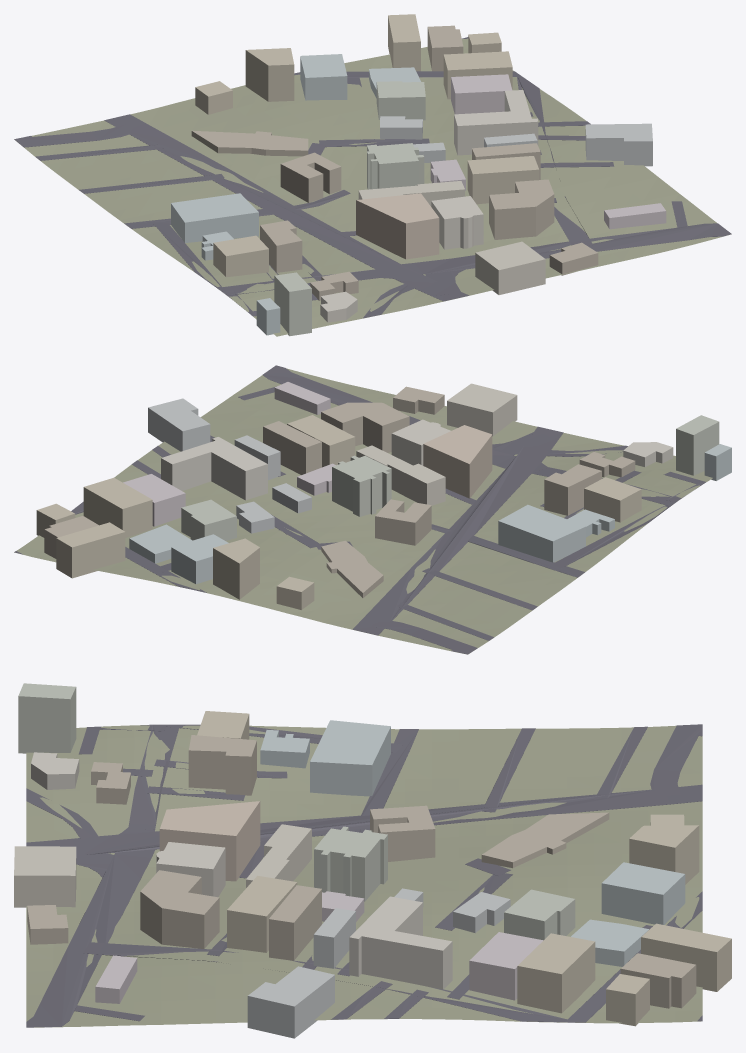
File: chunk_2_4.glb
The picture shows the model from 3 angles, top to bottom: view 1: azimuth 30°, elevation 25°; view 2: azimuth 150°, elevation 25°; view 3: azimuth 270°, elevation 25°; orthographic projection. The views are drawn at different scales.
Visible parts, largest first — view 1: geometry_36, geometry_46, geometry_1, geometry_33, geometry_6, geometry_48, geometry_13, geometry_4, geometry_5, geometry_32, geometry_12, geometry_15 (+33 smaller); view 2: geometry_36, geometry_46, geometry_13, geometry_1, geometry_33, geometry_16, geometry_15, geometry_22, geometry_6, geometry_4, geometry_5, geometry_10 (+35 smaller); view 3: geometry_36, geometry_46, geometry_13, geometry_48, geometry_33, geometry_6, geometry_1, geometry_16, geometry_5, geometry_15, geometry_3, geometry_23 (+37 smaller).
Boxes of the visible parts, x1,y1,x2,y2 form: geometry_36: (14,38,728,336); geometry_46: (104,114,469,301); geometry_1: (356,193,439,259); geometry_33: (171,193,258,242); geometry_6: (489,179,554,239); geometry_48: (402,223,731,274); geometry_13: (454,90,538,155); geometry_4: (475,241,545,294); geometry_5: (585,123,652,166); geometry_32: (467,156,539,204); geometry_12: (245,48,294,101); geometry_15: (367,143,424,189); geometry_36: (14,368,712,654); geometry_46: (352,426,563,635); geometry_13: (161,437,267,500); geometry_1: (423,425,492,498); geometry_33: (498,504,585,562); geometry_16: (83,477,152,537); geometry_15: (332,455,391,516); geometry_22: (56,522,125,578); geometry_6: (321,402,409,452); geometry_4: (447,383,517,436); geometry_5: (148,398,210,451); geometry_10: (356,445,445,505); geometry_36: (26,725,702,1027); geometry_46: (26,784,702,854); geometry_13: (349,896,452,989); geometry_48: (26,849,155,1027); geometry_33: (310,720,390,796); geometry_6: (140,870,219,948); geometry_1: (159,801,260,881); geometry_16: (517,933,595,1013); geometry_5: (247,966,334,1038); geometry_15: (314,826,387,901); geometry_3: (601,862,685,924); geometry_23: (18,683,76,753).
Bounding box in the file's own units: 267 × 27.52 × 265.
